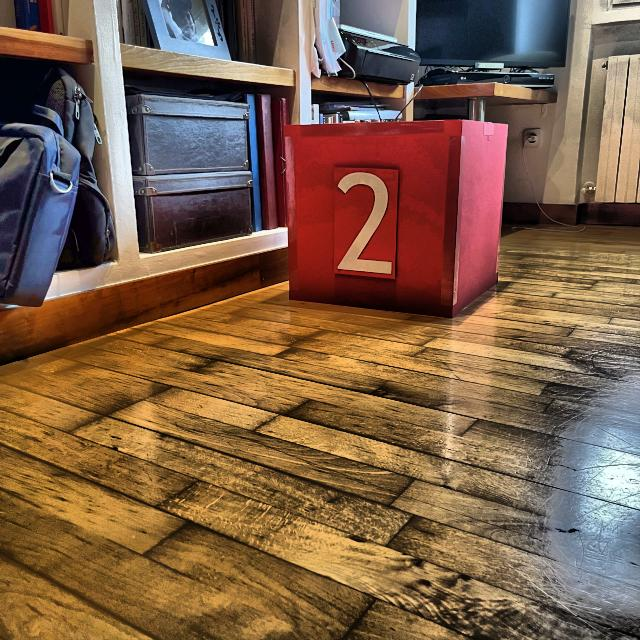red box: (285, 123, 501, 320)
two: (335, 169, 395, 274)
